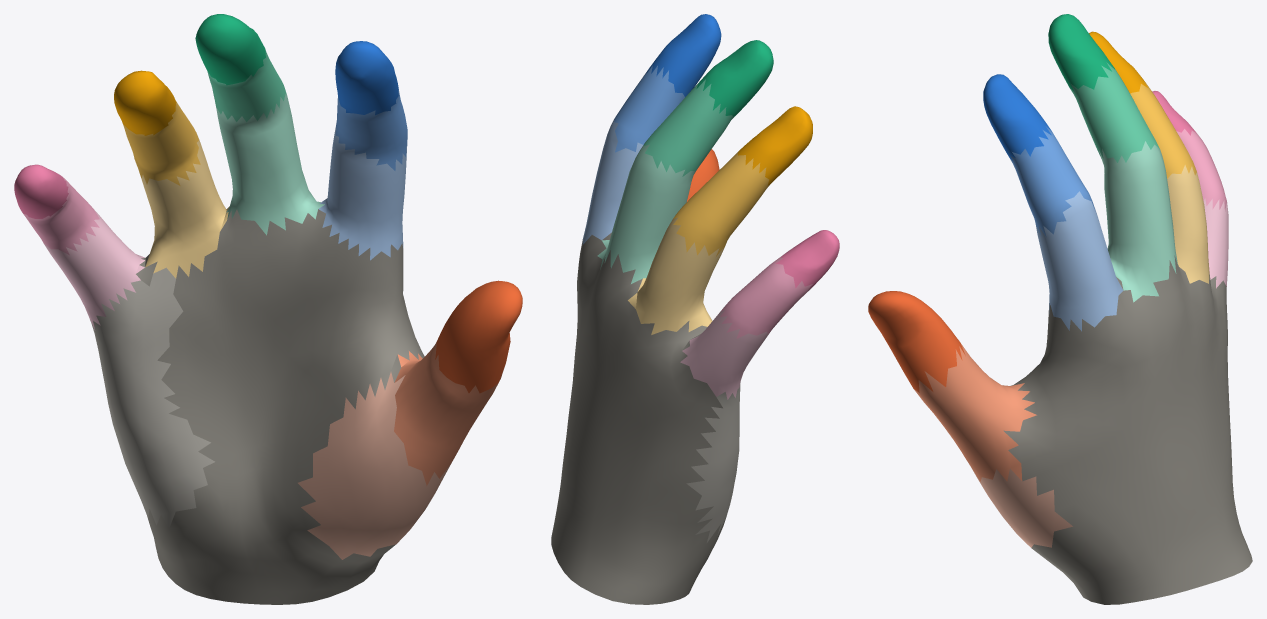
File: sharpa_human.glb
3 renders of one model, left to right at view 1: azimuth 30°, elevation 25°; view 2: azimuth 150°, elevation 25°; view 3: azimuth 270°, elevation 25°, orthographic. The views are drawn at different scales.
Visible parts, largest first — view 1: hand; view 2: hand; view 3: hand.
Boxes of the visible parts, bbox=[...] form: hand: bbox=[14, 14, 522, 604]; hand: bbox=[551, 14, 839, 604]; hand: bbox=[868, 14, 1252, 604].
Size of the model in its own units: 0.1078 by 0.1809 by 0.1187.
